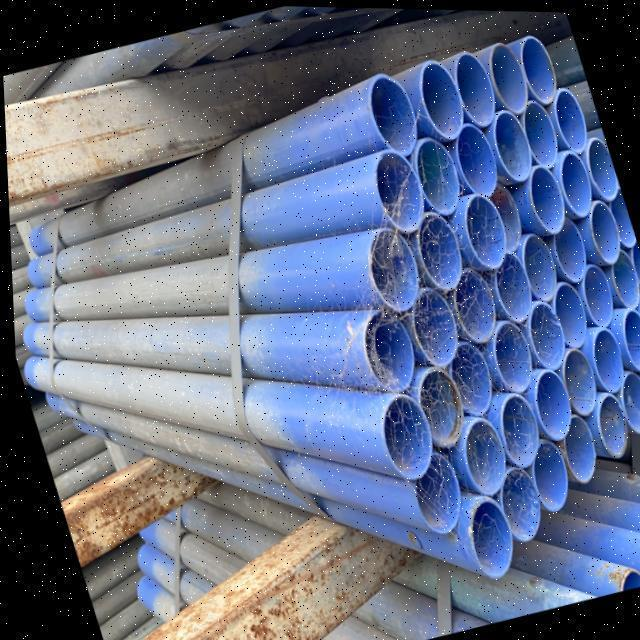pipe: (356, 310, 411, 395), (404, 451, 457, 536), (397, 288, 453, 368), (365, 225, 416, 310), (374, 398, 425, 483), (365, 71, 415, 154), (446, 50, 495, 133), (369, 157, 421, 235), (444, 330, 489, 420), (415, 60, 464, 142), (410, 368, 458, 450), (450, 418, 499, 498), (408, 212, 457, 289), (446, 268, 492, 349), (491, 462, 537, 542), (460, 497, 505, 577), (457, 193, 503, 270), (408, 140, 454, 216), (449, 122, 494, 199), (550, 399, 591, 483), (526, 421, 565, 509), (519, 372, 564, 446), (485, 320, 531, 392), (489, 106, 531, 184), (491, 394, 532, 473), (517, 93, 555, 177), (552, 350, 595, 423), (520, 303, 562, 374), (547, 207, 582, 291), (490, 251, 529, 324), (514, 232, 554, 303), (547, 279, 584, 355), (516, 32, 556, 100), (523, 167, 562, 236), (483, 182, 517, 256), (588, 388, 625, 456), (574, 261, 611, 327), (584, 193, 616, 267), (584, 330, 619, 396), (548, 89, 584, 153), (488, 41, 522, 106), (581, 136, 613, 199), (612, 359, 640, 430), (554, 155, 586, 217), (604, 248, 635, 310), (602, 187, 631, 246), (615, 310, 640, 375), (622, 234, 640, 297), (627, 284, 640, 355)
